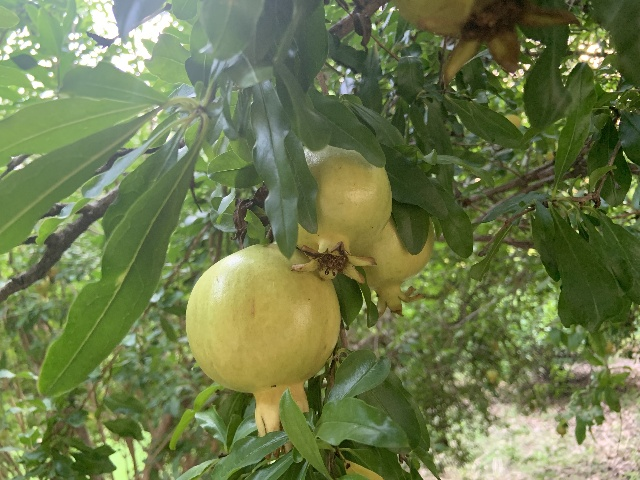mid-growth: (185, 244, 340, 458), (290, 145, 393, 283), (355, 213, 435, 316)
